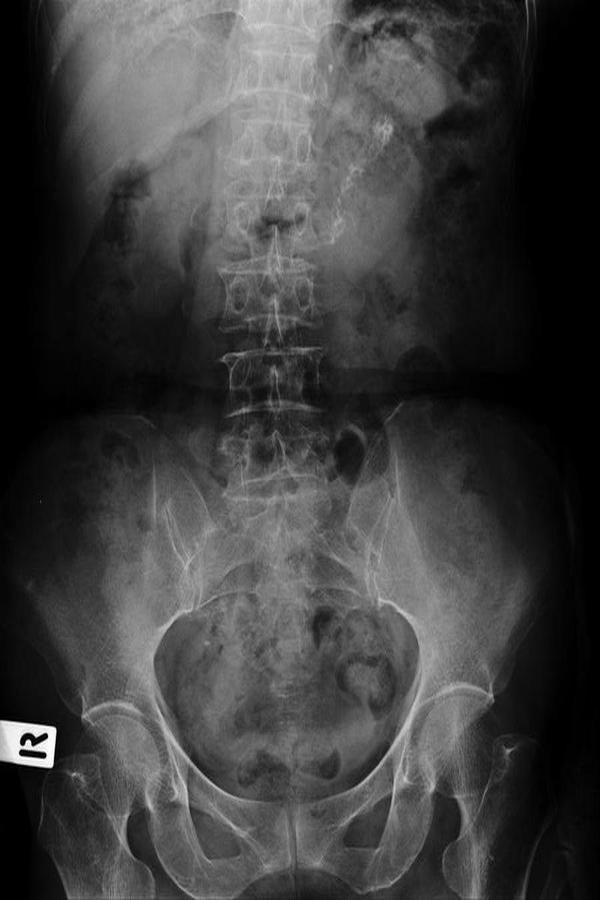lumbar scoliosis: (208, 1, 339, 528)
